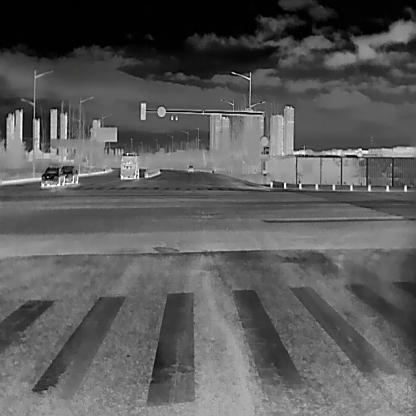car: (41, 164, 65, 185), (60, 164, 77, 183), (186, 164, 194, 172)
truck: (120, 152, 139, 178)
